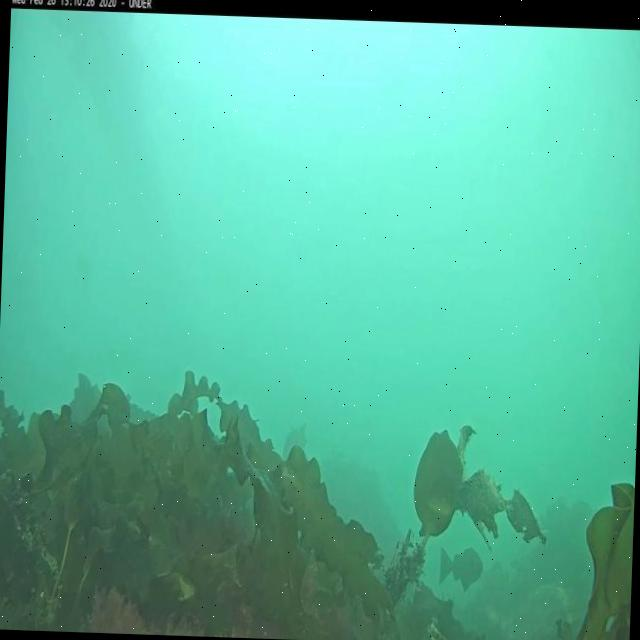fish: (437, 542, 484, 596)
